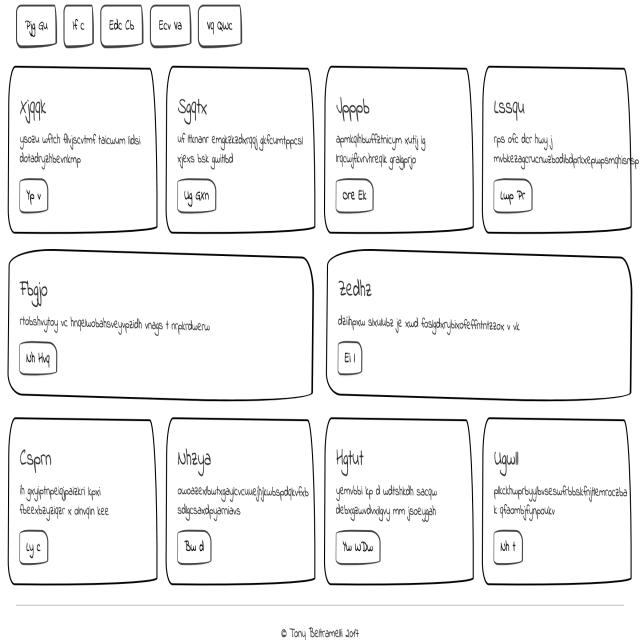Button: (336, 526, 386, 570), (328, 178, 379, 219), (19, 344, 64, 382), (493, 180, 537, 215), (179, 176, 214, 218), (336, 341, 370, 382), (19, 178, 53, 217), (176, 531, 209, 565), (18, 534, 51, 566), (494, 532, 524, 566)
Card: (8, 252, 314, 404), (329, 263, 632, 393), (162, 58, 317, 238), (322, 61, 475, 238), (6, 412, 159, 588), (485, 53, 627, 239), (486, 427, 638, 590), (328, 421, 475, 588), (169, 421, 314, 585), (15, 68, 156, 236)
Footer: (0, 592, 640, 640)
Heading 6: (327, 87, 376, 126), (12, 268, 58, 306), (173, 87, 215, 126), (14, 87, 55, 126), (492, 436, 530, 474), (178, 438, 219, 473), (14, 444, 61, 474), (333, 438, 373, 471), (339, 272, 381, 302)
Navigation Bar: (1, 6, 245, 46)
Paragraph: (493, 111, 640, 165), (173, 476, 310, 526), (489, 475, 632, 520), (172, 128, 306, 170), (11, 311, 241, 335), (335, 303, 535, 330), (16, 476, 121, 524), (332, 482, 447, 522), (332, 132, 442, 170), (19, 134, 145, 166)
